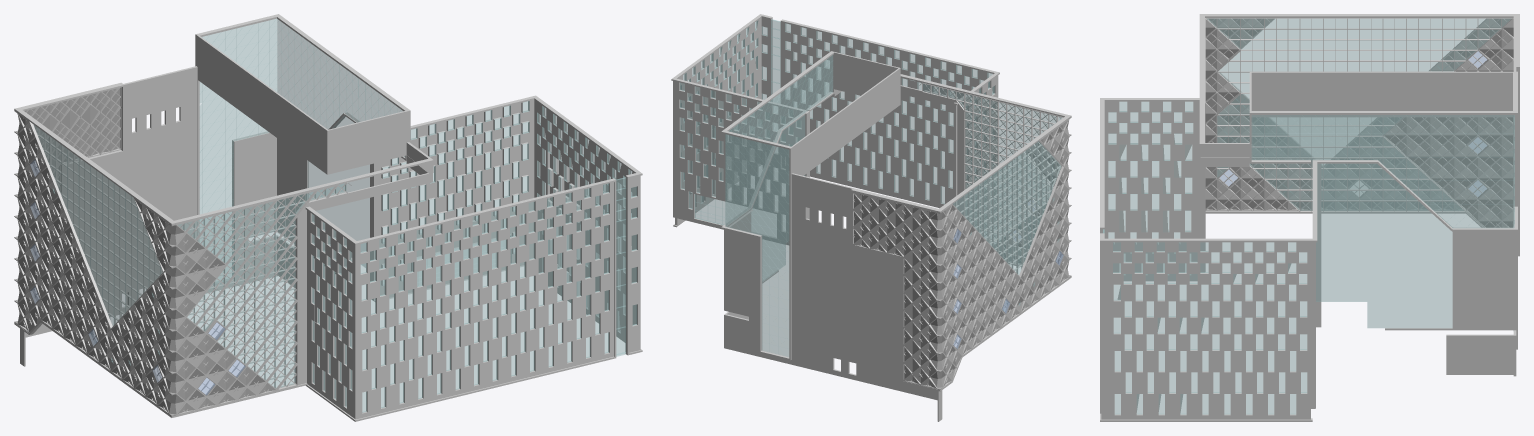
File: out_wall.fbx
The picture shows the model from 3 angles, left to right: view 1: azimuth 30°, elevation 25°; view 2: azimuth 150°, elevation 25°; view 3: azimuth 270°, elevation 25°; orthographic projection. The views are drawn at different scales.
Parts seen in each view (by area): view 1: Out_wall (×2), Out_born (×2), Out_glasse (×2), Out_wall1, Out_Glasswall, Out_glasse1, Out_blue_glasse; view 2: Out_wall (×2), Out_born (×2), Out_glasse (×2), Out_wall1, Out_Glasswall, Out_glasse1, Out_blue_glasse; view 3: Out_wall (×2), Out_born (×2), Out_glasse (×2), Out_Glasswall, Out_wall1, Out_glasse1, Out_blue_glasse.
Part boxes in pixels (left/top/right/bottom): Out_wall (×2): left=20, top=66, right=640, bottom=419; Out_born (×2): left=14, top=14, right=642, bottom=421; Out_glasse (×2): left=199, top=18, right=636, bottom=412; Out_wall1: left=17, top=88, right=275, bottom=414; Out_Glasswall: left=34, top=125, right=346, bottom=387; Out_glasse1: left=307, top=115, right=369, bottom=272; Out_blue_glasse: left=29, top=158, right=246, bottom=396; Out_wall (×2): left=673, top=17, right=998, bottom=421; Out_born (×2): left=671, top=14, right=1071, bottom=391; Out_glasse (×2): left=680, top=19, right=994, bottom=356; Out_wall1: left=853, top=120, right=1069, bottom=387; Out_Glasswall: left=923, top=84, right=1062, bottom=311; Out_glasse1: left=751, top=115, right=805, bottom=281; Out_blue_glasse: left=953, top=199, right=1063, bottom=349; Out_wall (×2): left=1101, top=67, right=1516, bottom=419; Out_born (×2): left=1100, top=14, right=1519, bottom=421; Out_glasse (×2): left=1103, top=101, right=1514, bottom=414; Out_Glasswall: left=1207, top=18, right=1511, bottom=210; Out_wall1: left=1205, top=18, right=1513, bottom=227; Out_glasse1: left=1316, top=163, right=1452, bottom=328; Out_blue_glasse: left=1218, top=51, right=1488, bottom=198.
Bounding box in the file's own units: 5432 × 3511 × 4600.
